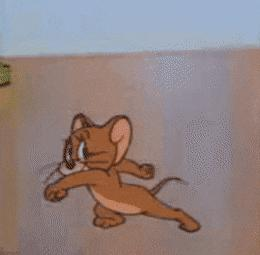jerry: (41, 112, 202, 234)
